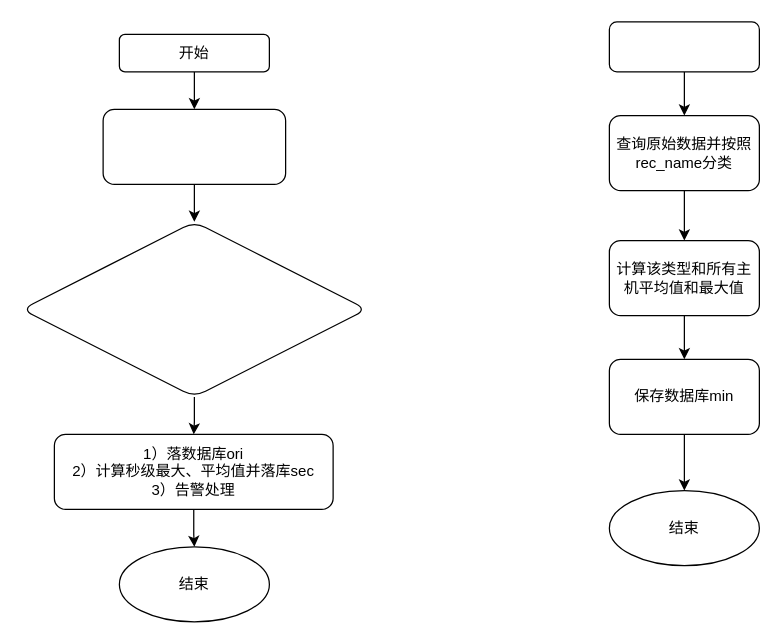
Image size: 781x644. Some labels were removed from this diagram. The shapes that lost their labels are listed below. From the top down, each one's box as (x1, y1, x2, y2) in pixels, then its label:
(608, 21, 759, 72): 每隔一分钟开始
(102, 108, 286, 184): 监听uniserver的topic是 uni_msg_mtp
(21, 221, 367, 397): 1）时间是当天9:00-15:40 2）消息类型A201 3）数据库中没有该时间数据 4）是目标类型
